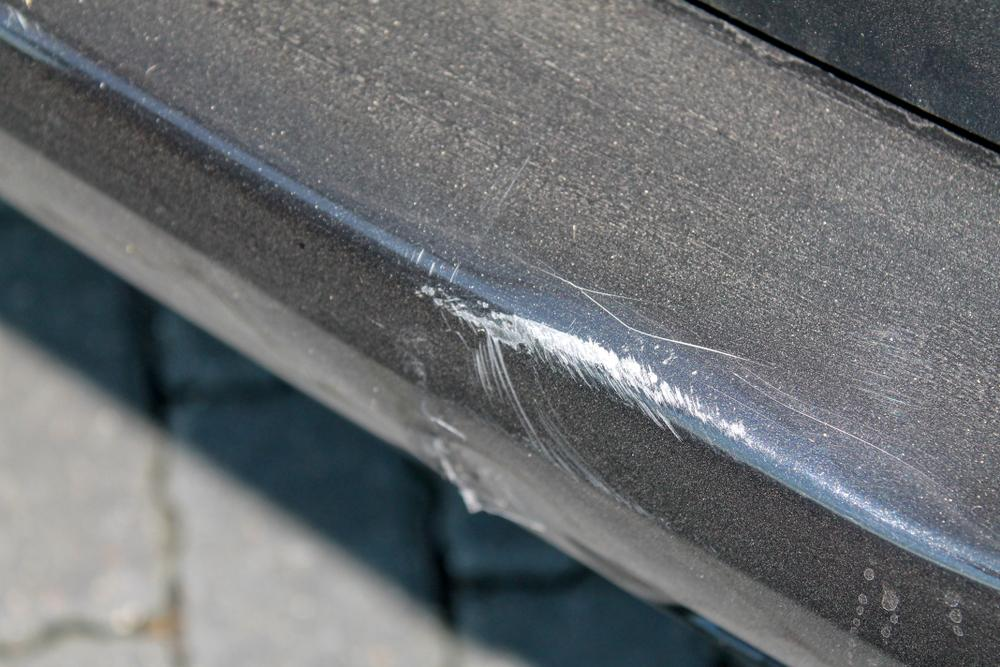scratch: (420, 272, 780, 525)
